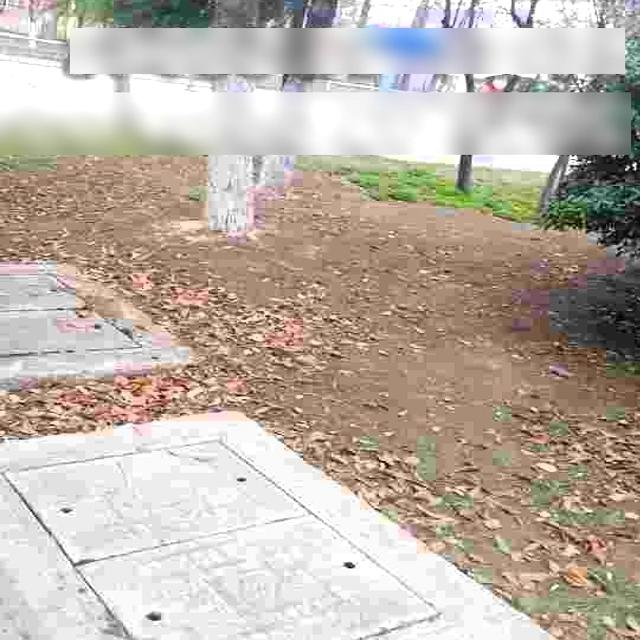good: (0, 432, 458, 640), (0, 478, 117, 640), (0, 267, 153, 367)
